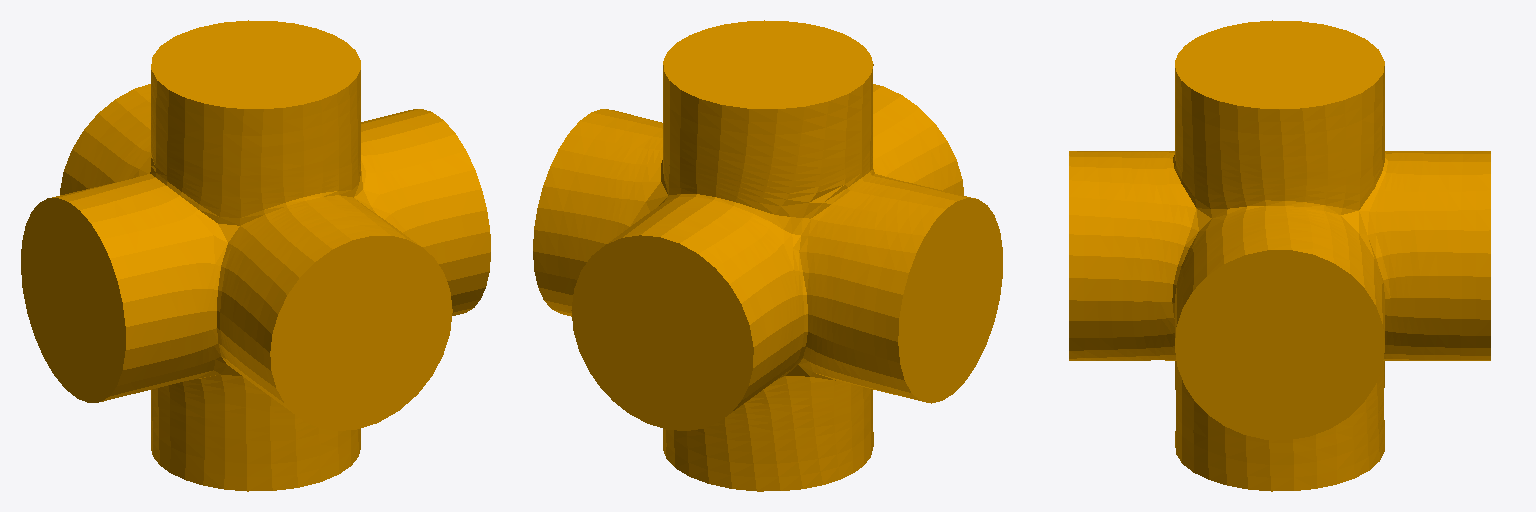
robot.urdf — object:
<robot name="object">
  <link name="object">
    <visual>
      <origin xyz="0 0 0"/>
      <geometry>
        <mesh filename="visual.obj" scale="1 1 1"/>
      </geometry>
    </visual>
    <collision>
      <origin xyz="0 0 0"/>
      <geometry>
        <mesh filename="visual.obj" scale="1 1 1"/>
      </geometry>
    </collision>
    <inertial>
      <mass value="0.05"/>
      <inertia ixx="4.380475473131236e-05" iyy="4.3801153210734657e-05" izz="4.381579423101552e-05" ixy="1.875449178511281e-10" ixz="-2.486700420049326e-09" iyz="6.742478677687774e-09"/>
    </inertial>
  </link>
</robot>

--- Facts derived from the render (not from the file) ---
The picture shows the robot from 3 angles, left to right: view 1: azimuth 30°, elevation 25°; view 2: azimuth 150°, elevation 25°; view 3: azimuth 270°, elevation 25°; orthographic projection.
Robot: object — 1 links, 0 joints (none); root link object; default pose: all joints at 0.
Visible links, largest first — view 1: object; view 2: object; view 3: object.
Link boxes in pixels (<box>): object: <box>21,20,490,491</box>; object: <box>533,20,1002,491</box>; object: <box>1069,20,1490,491</box>.
Size in the robot's own frame: 0.096 by 0.096 by 0.096 metres.
1 mesh visuals loaded from 1 distinct referenced files (1 OBJ).
